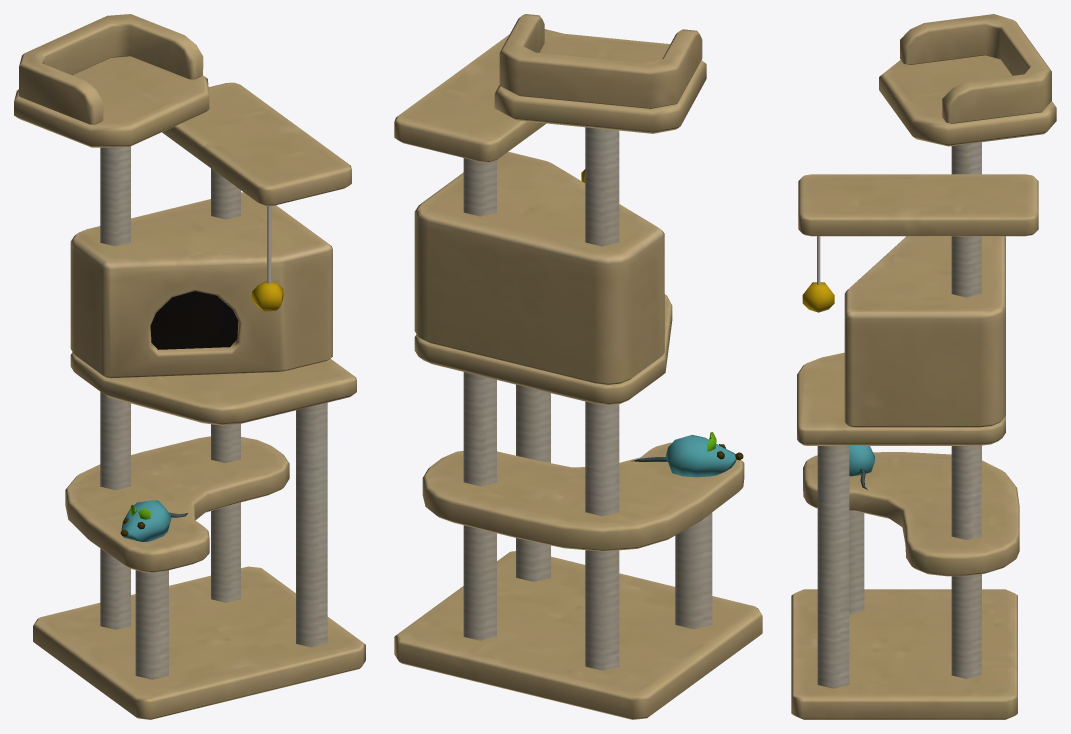
3 renders of one model, left to right at view 1: azimuth 30°, elevation 25°; view 2: azimuth 150°, elevation 25°; view 3: azimuth 270°, elevation 25°, orthographic. The views are drawn at different scales.
Size of the model in its own units: 9.14 by 20.29 by 8.3.
1 material, 1 textured.
